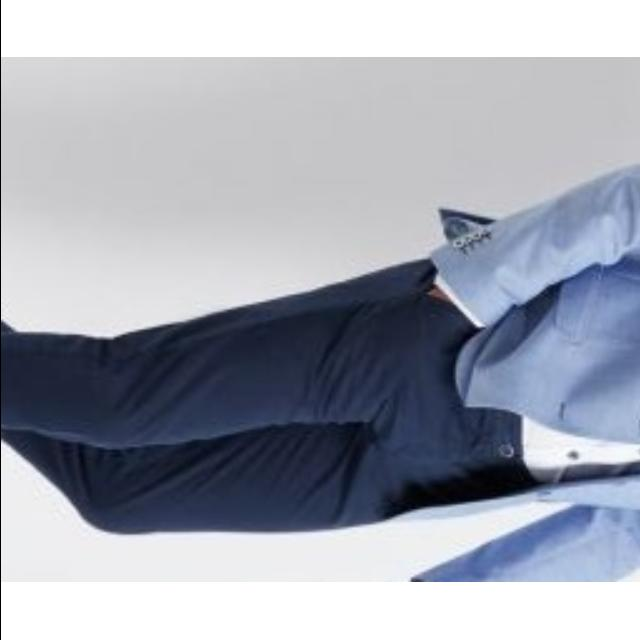cotton: (522, 150, 640, 582)
